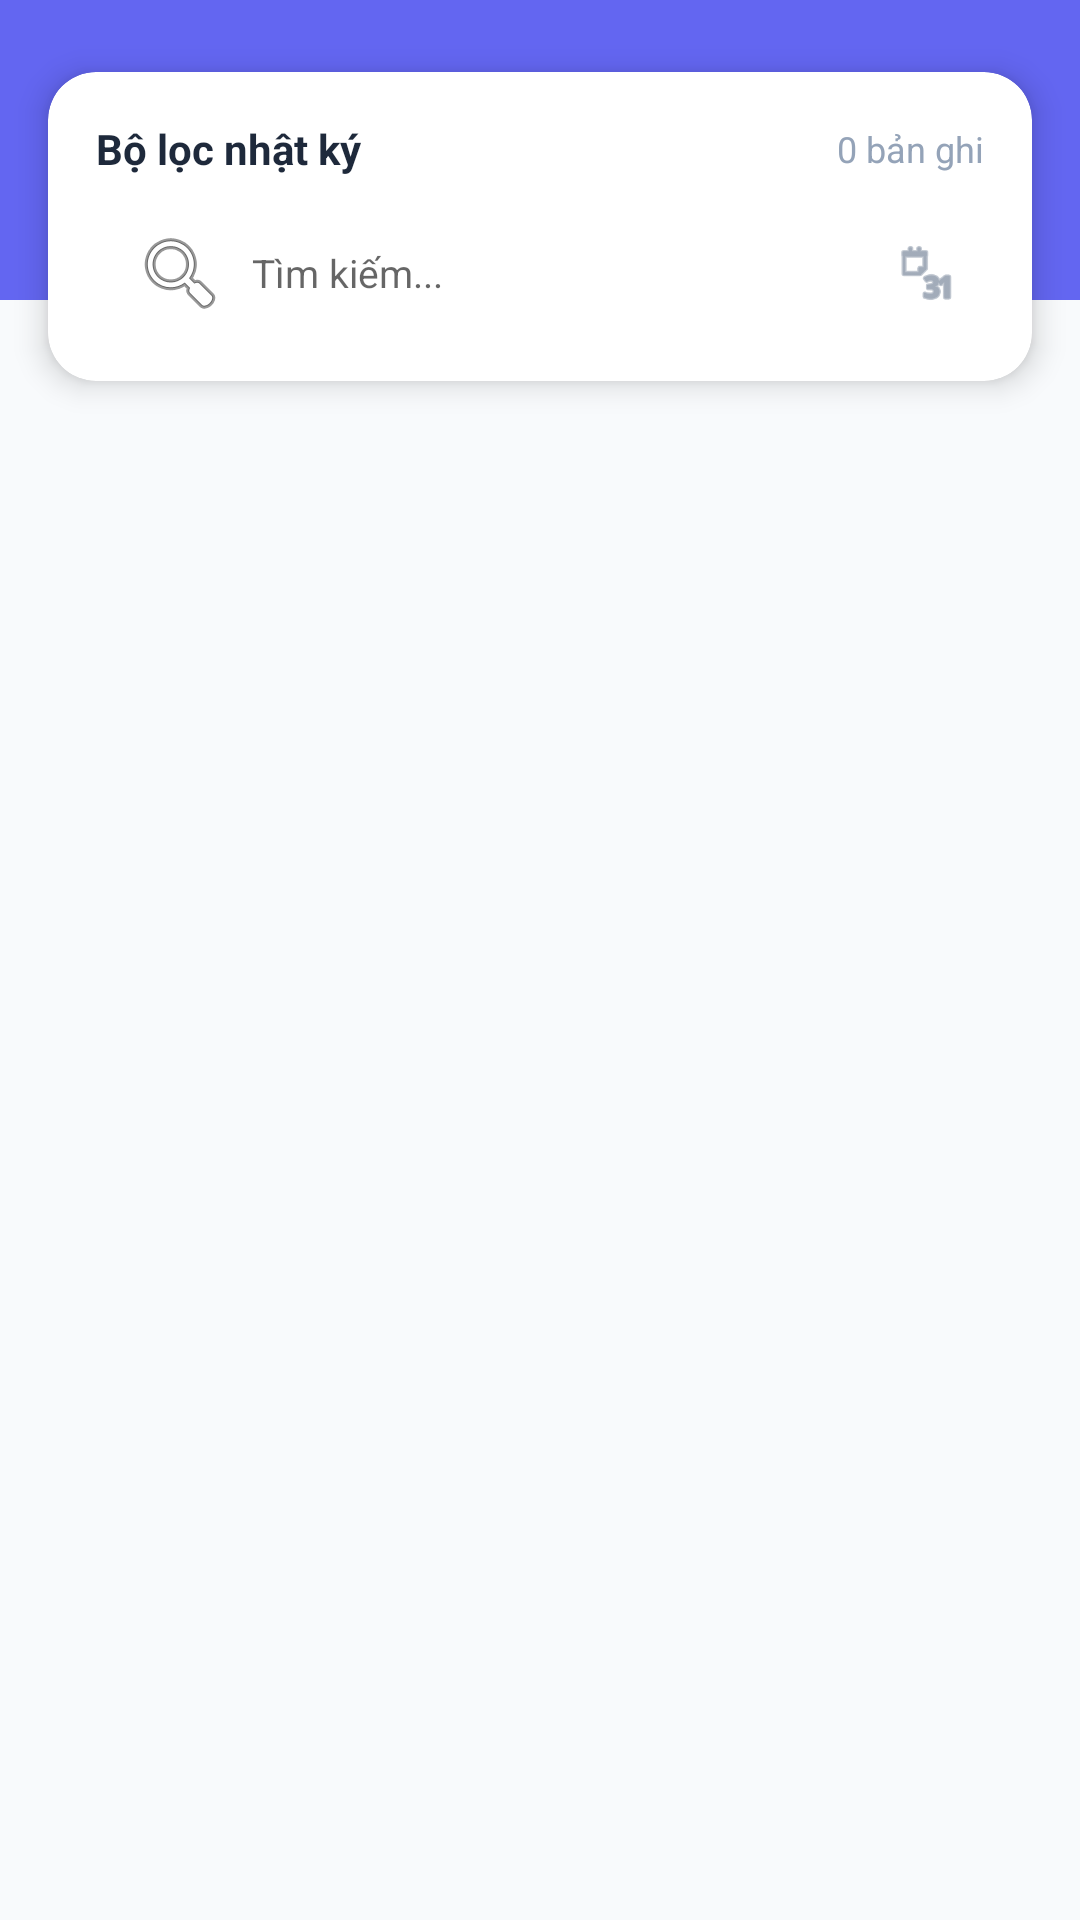

Named icons in this screenshot (1080*1920) and their bounding boxes, bbox=(x1, y1, x2, y2):
month: bbox=(901, 246, 951, 300)
